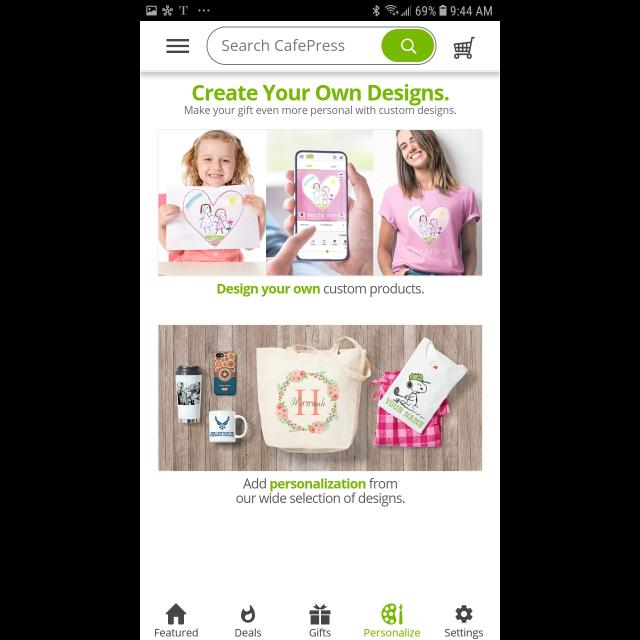icon: (382, 29, 434, 62), (309, 603, 331, 625), (381, 603, 403, 625), (165, 604, 187, 624), (454, 37, 474, 59), (167, 38, 190, 54), (456, 605, 472, 623), (241, 605, 255, 623)
image: (158, 325, 482, 471), (158, 130, 482, 276)
input: (207, 26, 437, 66)
text: (193, 84, 449, 106), (236, 478, 404, 507), (186, 106, 457, 118), (218, 283, 424, 297), (222, 40, 346, 52), (445, 628, 483, 640), (364, 628, 420, 636), (156, 628, 198, 636), (235, 629, 261, 637), (309, 628, 331, 636)
uppertaskbar: (140, 1, 500, 22)
